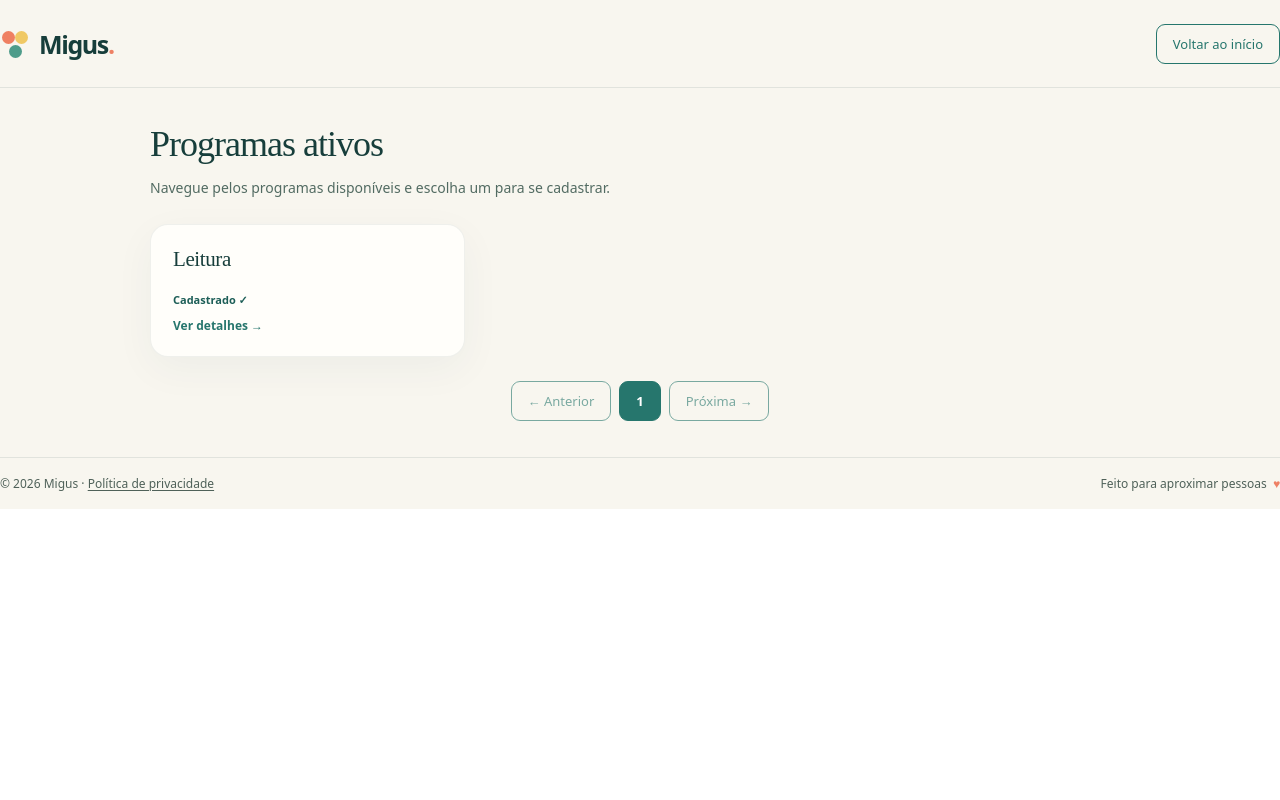
it: reconhece inscrição PENDENTE ao abrir novamente o catálogo
Step 1. Click the button with aria-label "Ver detalhes de Leitura" → {"x": 202, "y": 259}, box 150,224 -> 465,357
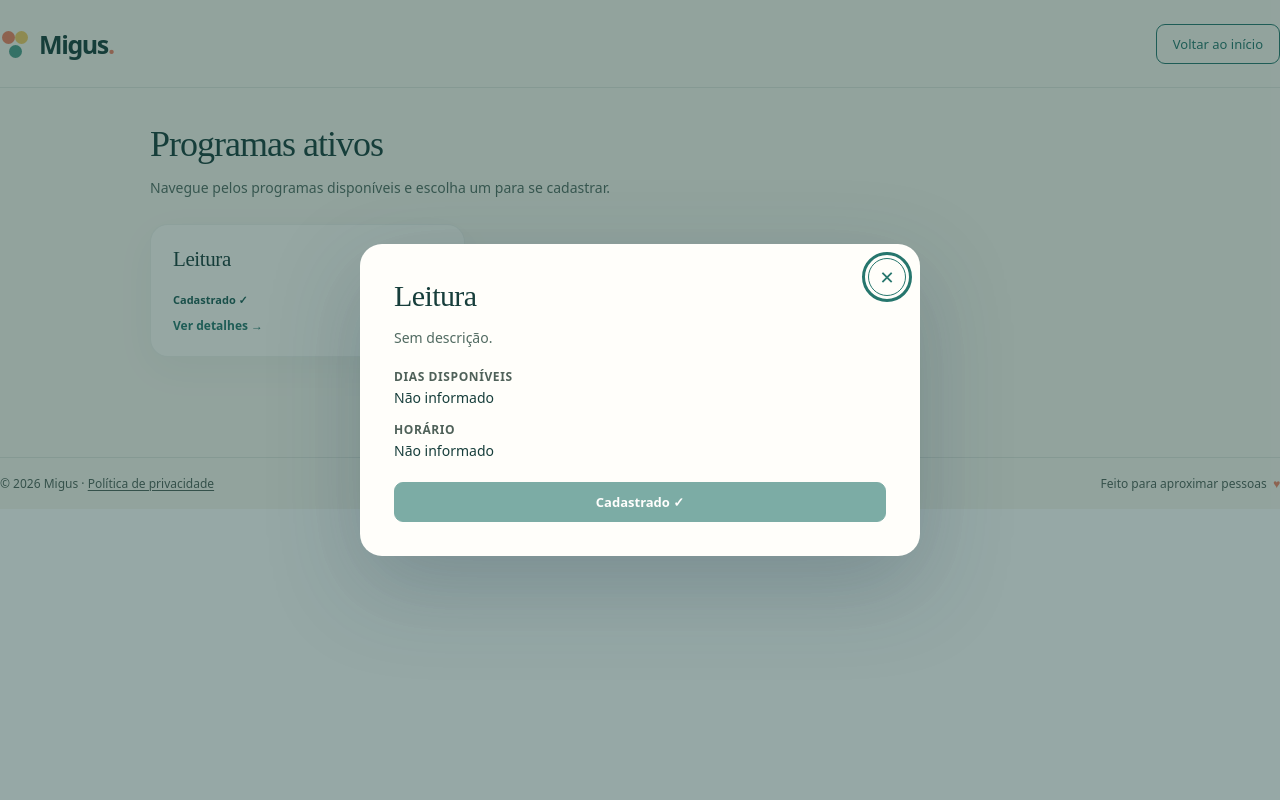
Check: the button "Cadastrado ✓" is disabled, box 394,482 -> 886,522
